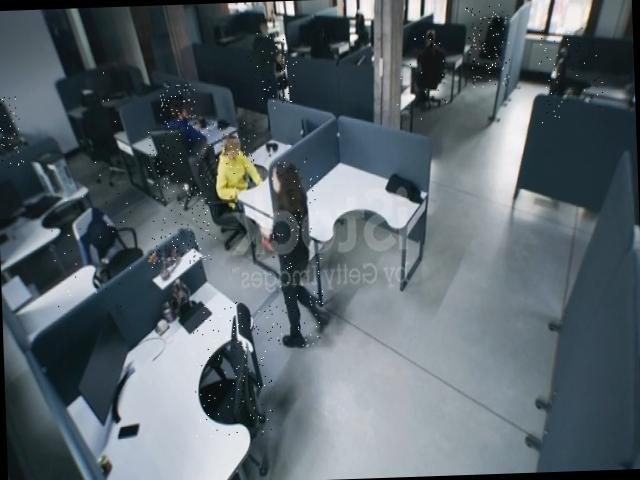empty chair: (192, 298, 275, 438), (50, 190, 137, 311), (536, 22, 606, 126), (76, 71, 121, 180), (465, 3, 511, 88), (0, 94, 24, 168)
occupiedchair: (147, 130, 217, 270), (395, 47, 448, 121), (260, 48, 298, 110)
